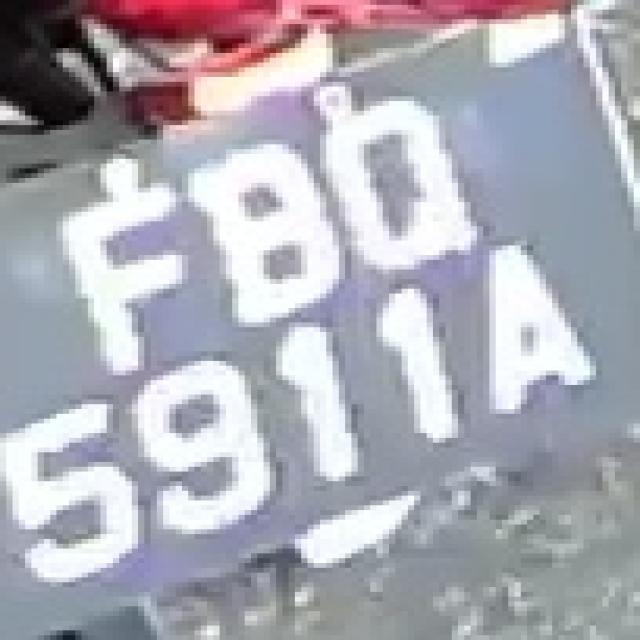1: (257, 303, 364, 486), (370, 269, 464, 462)
5: (6, 385, 151, 601)
9: (107, 361, 282, 534)
A: (452, 236, 596, 423)
B: (182, 130, 364, 322)
F: (38, 173, 207, 366)
Q: (314, 92, 483, 274)
